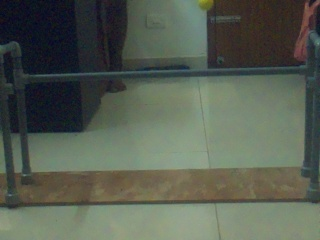ball: (199, 0, 213, 9)
